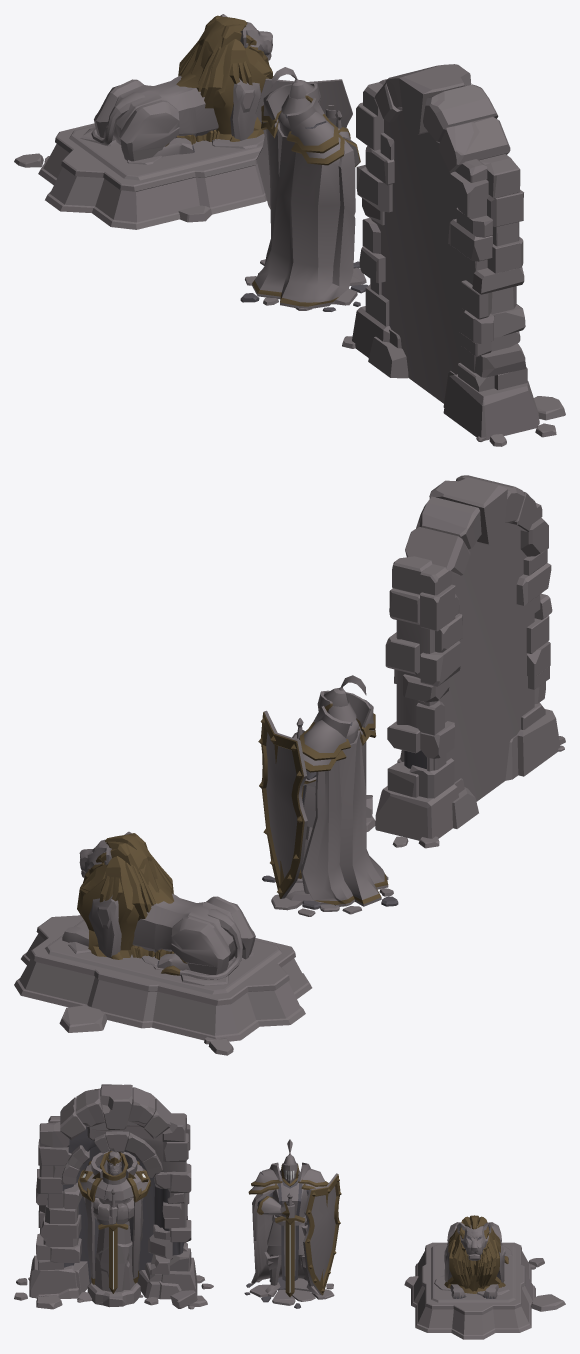
The model's file is XYZ_HomeWork_03.fbx.
The picture shows the model from 3 angles, top to bottom: view 1: azimuth 30°, elevation 25°; view 2: azimuth 150°, elevation 25°; view 3: azimuth 270°, elevation 25°; orthographic projection. The views are drawn at different scales.
Parts seen in each view (by area): view 1: Cube.027, Plane, Cube.134, Cube.055, Cube.135, Cube.139, Cube.176, Cube.056, Cube.057, Cube.058, Cube.154, Cube.037 (+34 smaller); view 2: Cube.027, Cube.134, Plane, Cube.037, Cube.135, Cube.071, Cube.139, Cube.154, Cube.058, Cube.140, Cube.059, Cube.060 (+25 smaller); view 3: Cube.134, Cube.027, Cube.037, Cube.135, Plane.015, Plane, Cylinder.020, Cube.058, Cylinder.025, Cube.055, Cube.021, Cube.165 (+43 smaller).
Boxes of the visible parts, left/top/right/bottom form: Cube.027: left=370, top=110, right=475, bottom=403; Plane: left=252, top=123, right=355, bottom=309; Cube.134: left=38, top=123, right=266, bottom=229; Cube.055: left=443, top=374, right=539, bottom=440; Cube.135: left=69, top=125, right=263, bottom=180; Cube.139: left=113, top=75, right=218, bottom=145; Cube.176: left=119, top=100, right=179, bottom=161; Cube.056: left=438, top=116, right=510, bottom=172; Cube.057: left=423, top=84, right=498, bottom=143; Cube.058: left=399, top=64, right=471, bottom=134; Cube.154: left=176, top=34, right=268, bottom=139; Cube.037: left=255, top=78, right=352, bottom=209; Cube.027: left=396, top=523, right=534, bottom=801; Cube.134: left=14, top=914, right=312, bottom=1041; Plane: left=301, top=730, right=388, bottom=906; Cube.037: left=261, top=710, right=307, bottom=898; Cube.135: left=45, top=920, right=281, bottom=994; Cube.071: left=375, top=784, right=458, bottom=840; Cube.139: left=132, top=893, right=235, bottom=960; Cube.154: left=82, top=850, right=173, bottom=957; Cube.058: left=429, top=477, right=507, bottom=545; Cube.140: left=171, top=916, right=230, bottom=974; Cube.059: left=416, top=496, right=481, bottom=549; Cube.060: left=405, top=527, right=470, bottom=575; Cube.134: left=411, top=1242, right=535, bottom=1339; Cube.027: left=62, top=1121, right=186, bottom=1283; Cube.037: left=303, top=1173, right=340, bottom=1295; Cube.135: left=431, top=1244, right=515, bottom=1302; Plane.015: left=84, top=1164, right=143, bottom=1284; Plane: left=251, top=1189, right=307, bottom=1285; Cylinder.020: left=94, top=1241, right=134, bottom=1292; Cube.058: left=100, top=1084, right=132, bottom=1129; Cylinder.025: left=78, top=1151, right=150, bottom=1202; Cube.055: left=29, top=1255, right=77, bottom=1297; Cube.021: left=277, top=1174, right=302, bottom=1280; Cube.165: left=452, top=1233, right=497, bottom=1287.
Bounding box in the file's own units: 1144 × 1229 × 3129.
